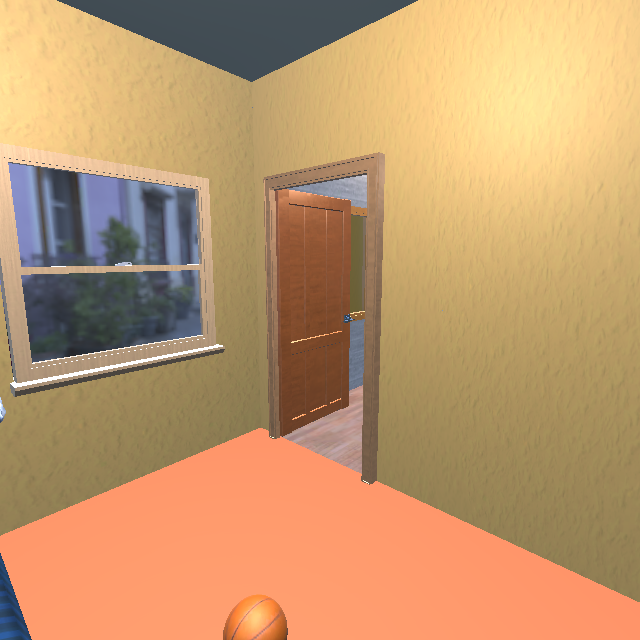open_doorway: (263, 152, 384, 484)
